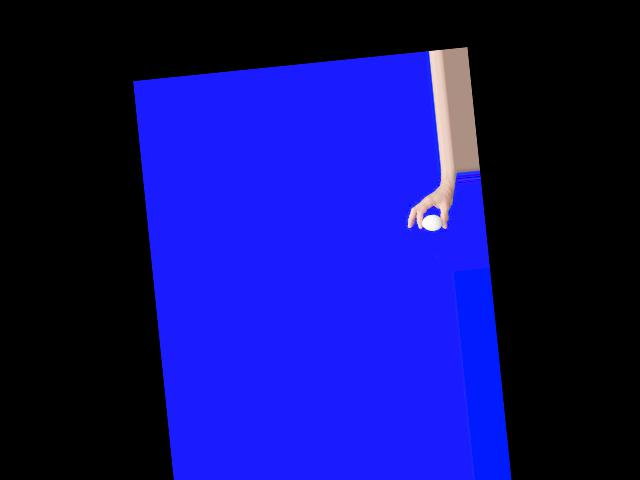egg: (421, 213, 443, 232)
